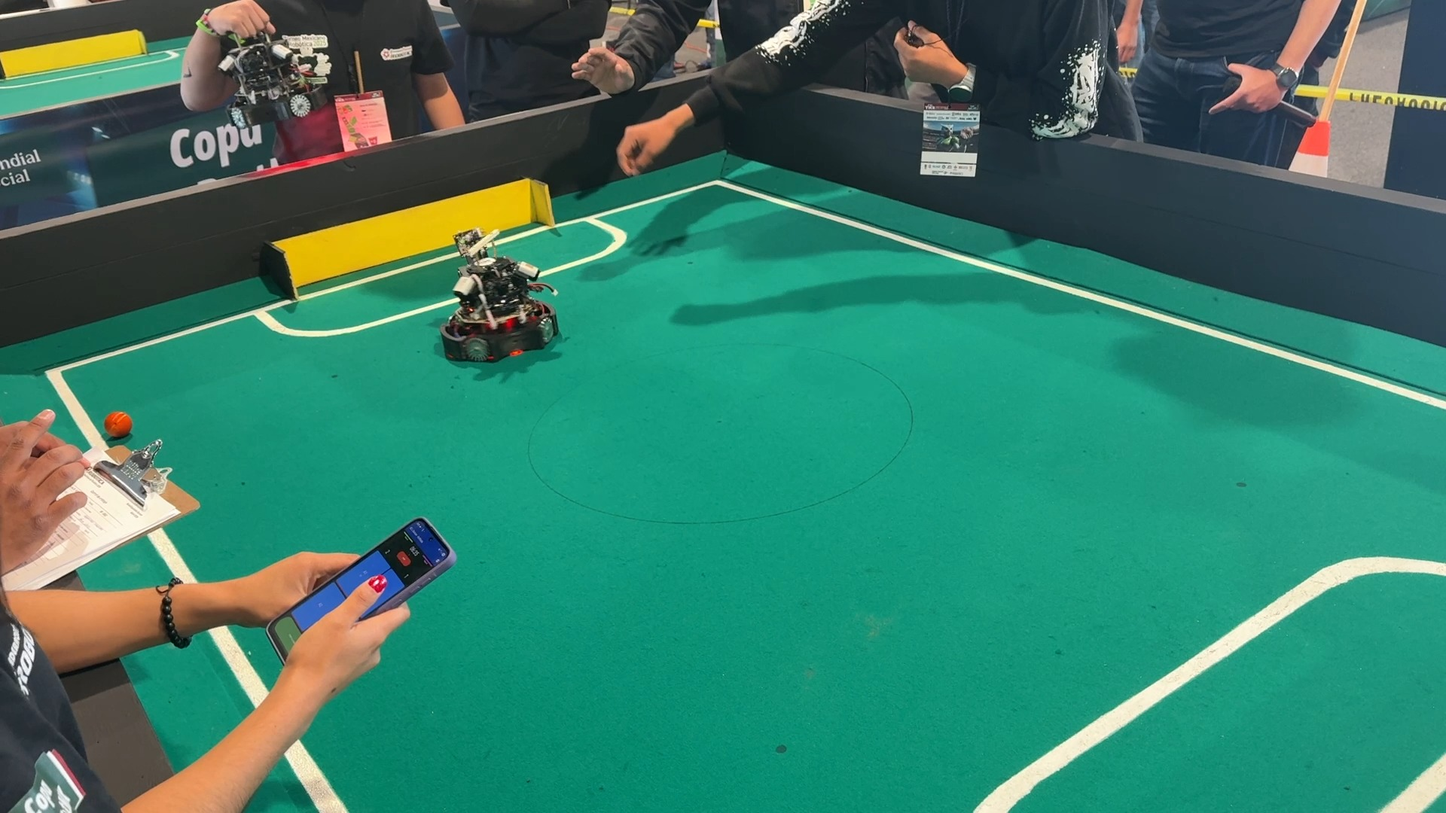Robot: (423, 216, 574, 381), (220, 11, 332, 129)
pelota: (97, 405, 140, 442)
